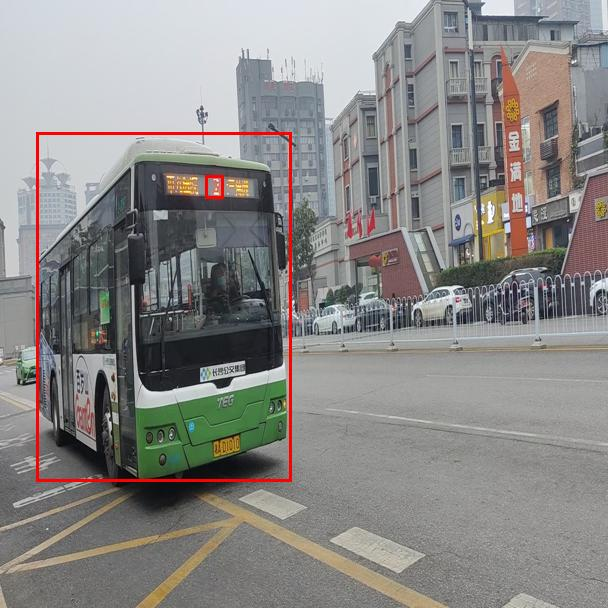bus: (36, 132, 291, 481)
screen: (205, 175, 223, 198)
